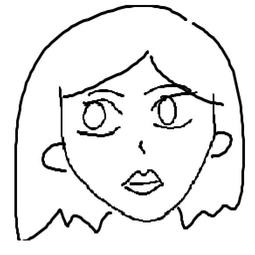cupid_mouth: (119, 164, 169, 199)
ear: (36, 137, 66, 182), (207, 126, 235, 157)
eye: (148, 92, 198, 138), (74, 99, 125, 140)
eyebrow: (137, 80, 178, 95), (84, 87, 128, 99)
pointy_nose: (136, 135, 150, 155)
